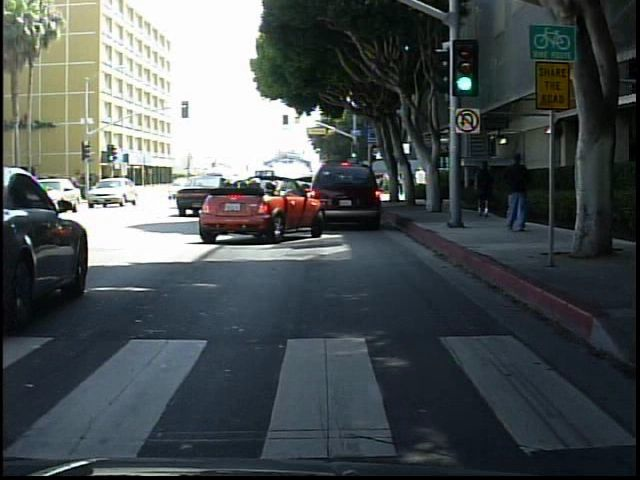person: (500, 148, 534, 239), (474, 156, 499, 222)
